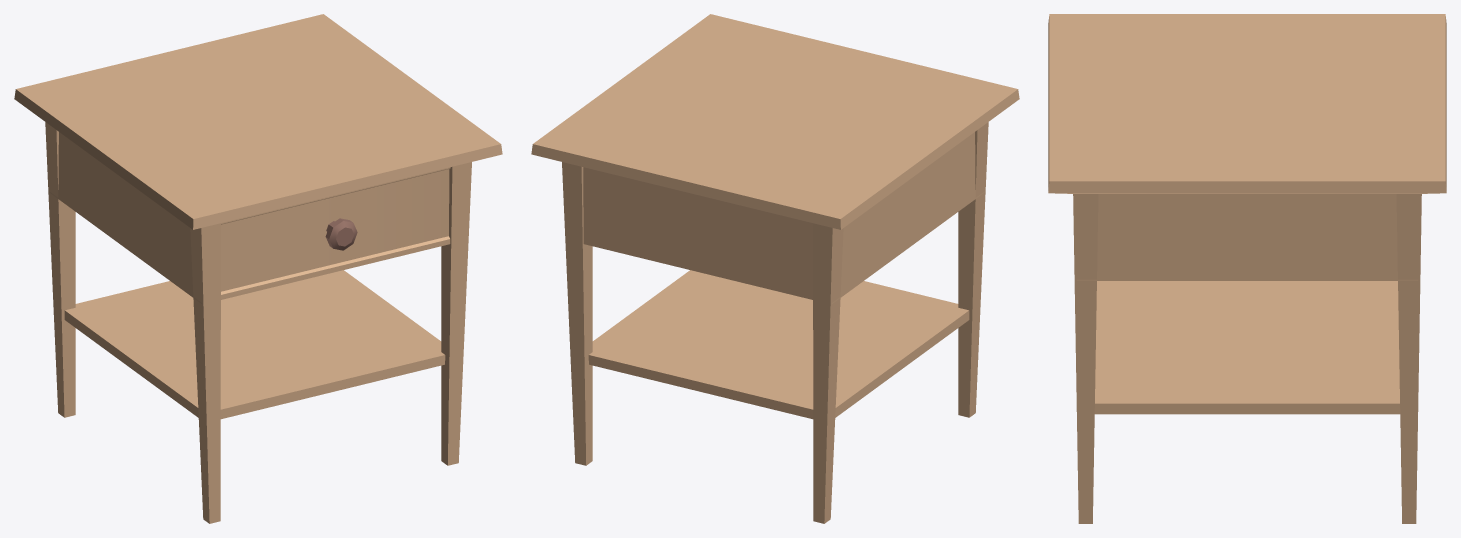
File: nightstand.glb
3 renders of one model, left to right at view 1: azimuth 30°, elevation 25°; view 2: azimuth 150°, elevation 25°; view 3: azimuth 270°, elevation 25°, orthographic. The views are drawn at different scales.
Visible parts, largest first — view 1: NightStand_2; view 2: NightStand_2; view 3: NightStand_2.
Boxes of the visible parts, x1,y1,x2,y2 form: NightStand_2: [14, 14, 502, 523]; NightStand_2: [531, 14, 1019, 523]; NightStand_2: [1048, 14, 1446, 523].
Bounding box in the file's own units: 0.9522 × 0.9453 × 0.9522.
